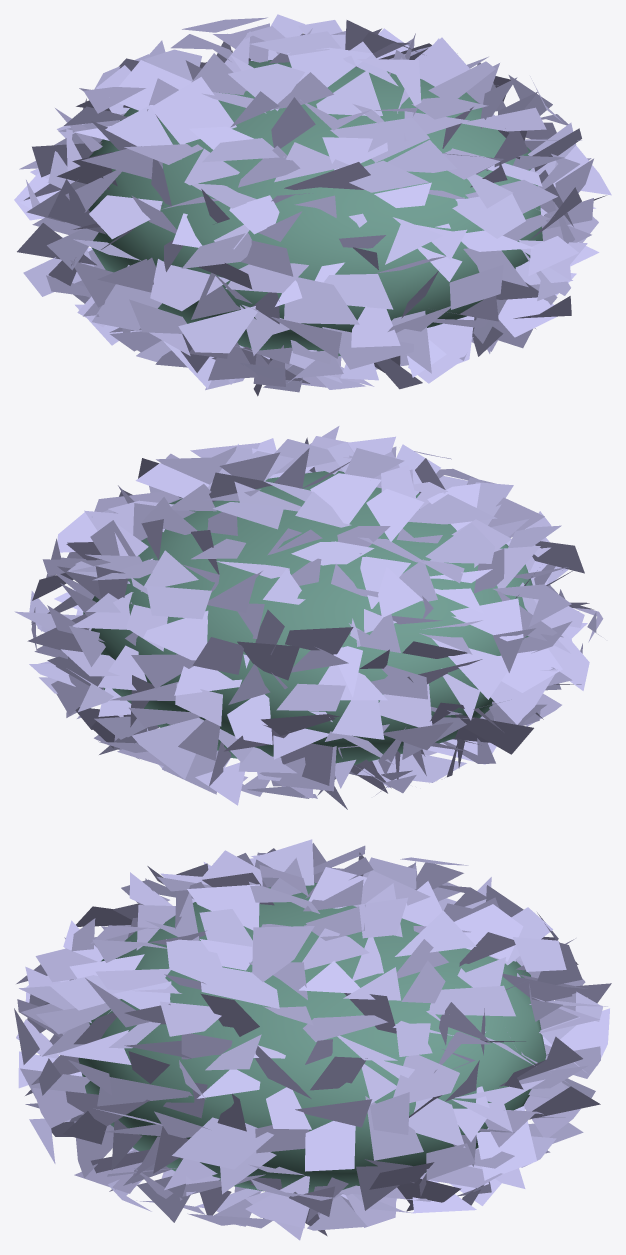
The model's file is Bush2.fbx.
3 renders of one model, top to bottom at view 1: azimuth 30°, elevation 25°; view 2: azimuth 150°, elevation 25°; view 3: azimuth 270°, elevation 25°, orthographic. The views are drawn at different scales.
Parts seen in each view (by area): view 1: Cube.001, Cube; view 2: Cube.001, Cube; view 3: Cube.001, Cube.
Boxes of the visible parts, x1,y1,x2,y2 form: Cube.001: (14, 14, 611, 396); Cube: (88, 60, 542, 356); Cube.001: (14, 426, 603, 809); Cube: (83, 471, 532, 764); Cube.001: (14, 839, 611, 1240); Cube: (78, 882, 546, 1192).
Size of the model in its own units: 218 by 112 by 210.
